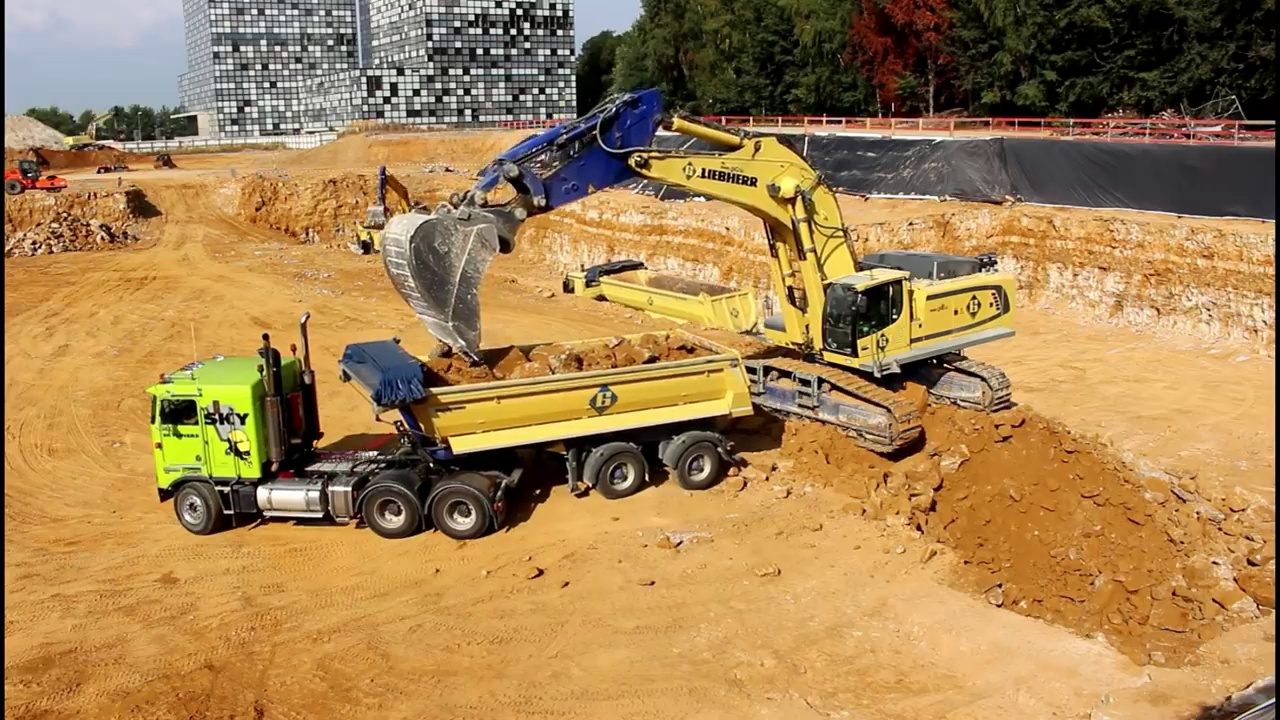compactor: (3, 159, 69, 193)
excavator: (379, 82, 1016, 458), (360, 162, 430, 247), (64, 107, 122, 154)
truck: (140, 310, 758, 547), (554, 254, 765, 375)
